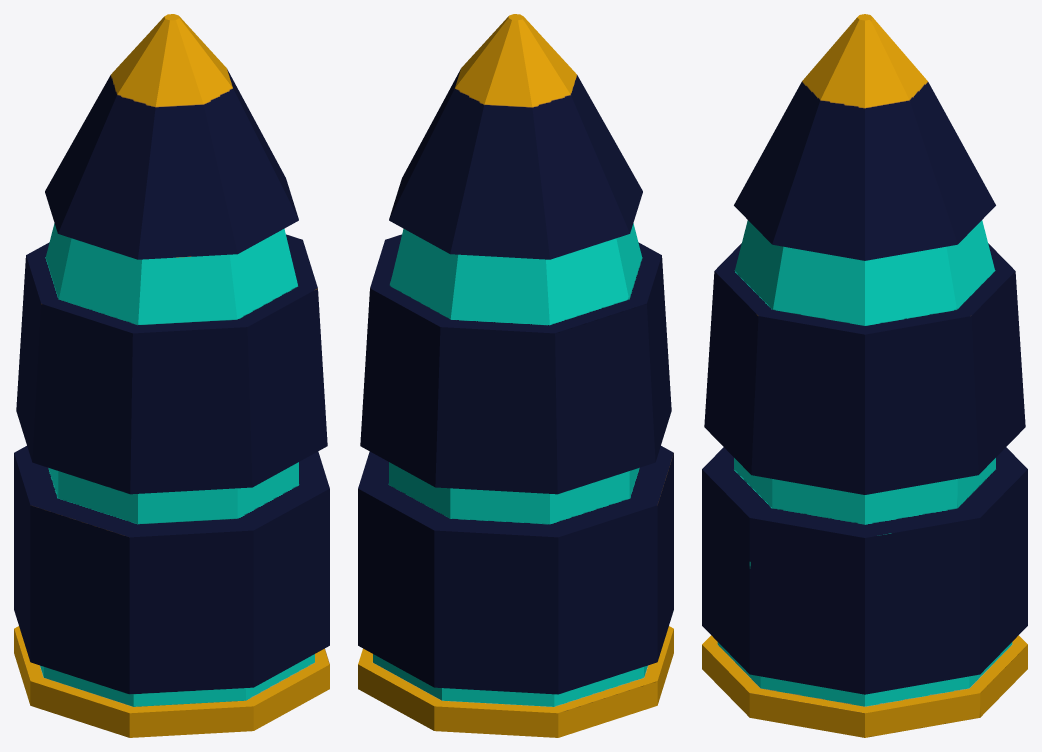
The model's file is Bala Futurista.fbx.
The picture shows the model from 3 angles, left to right: view 1: azimuth 30°, elevation 25°; view 2: azimuth 150°, elevation 25°; view 3: azimuth 270°, elevation 25°; orthographic projection.
Visible parts, largest first — view 1: Bala Futurista; view 2: Bala Futurista; view 3: Bala Futurista.
Part boxes in pixels (x1=…): Bala Futurista: x1=14, y1=14, x2=329, y2=737; Bala Futurista: x1=358, y1=14, x2=673, y2=737; Bala Futurista: x1=702, y1=14, x2=1027, y2=737.
Size of the model in its own units: 200 by 441 by 200.
1 material, 1 textured.
